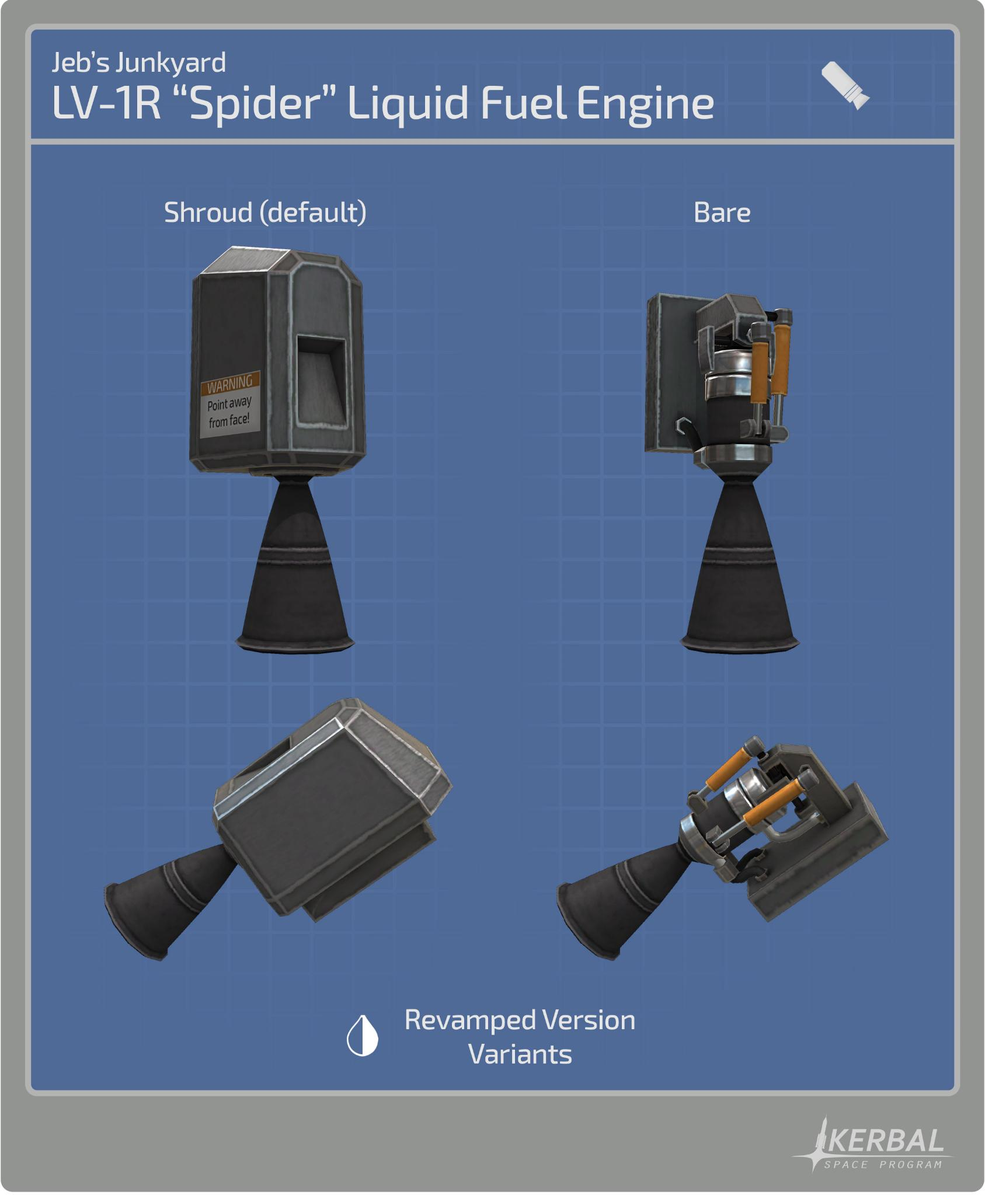thruster: (673, 472, 808, 664), (232, 484, 361, 665), (102, 851, 251, 968), (552, 837, 691, 961)
